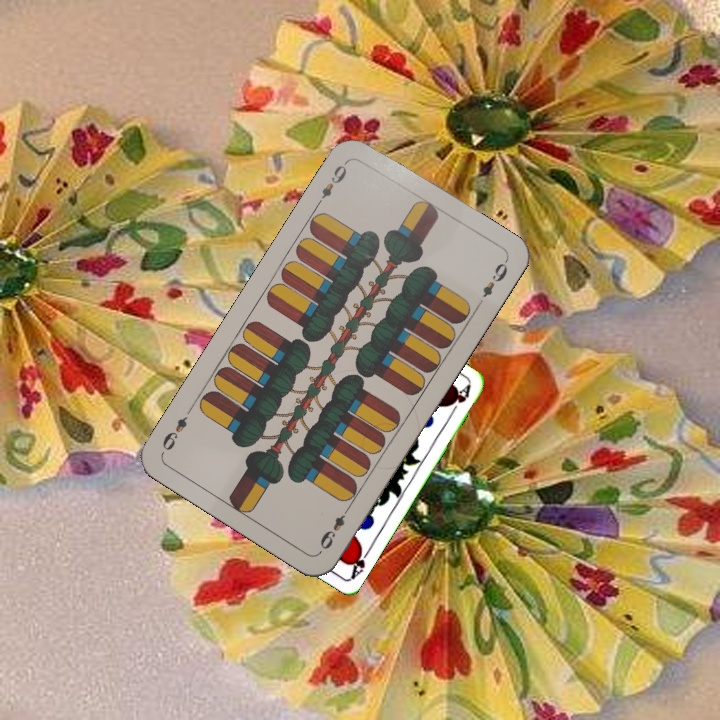E9: (312, 156, 351, 209), (315, 502, 353, 555)
HA: (346, 542, 374, 581)
